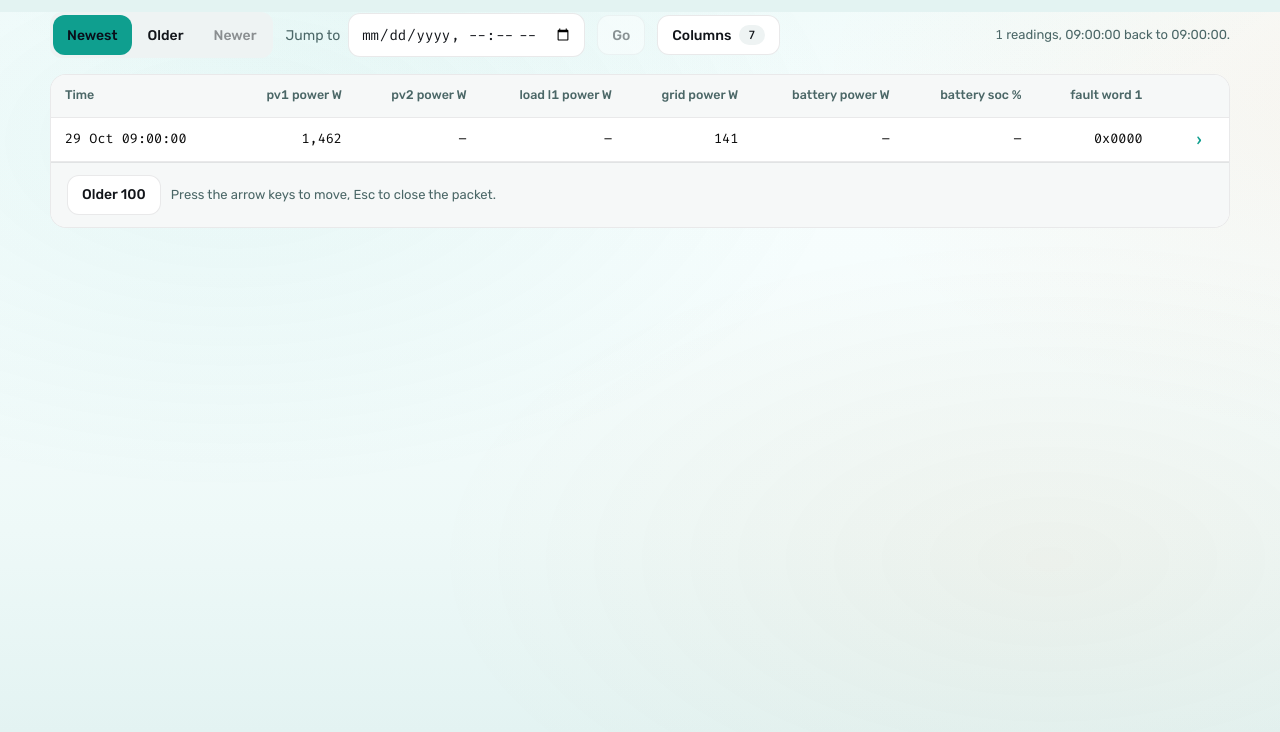
Test: ReadingsTab › R11/RR3 Older then Newer returns to the first page
Step 1. Click the button "Older" → (166, 35), box [134,15,198,55]
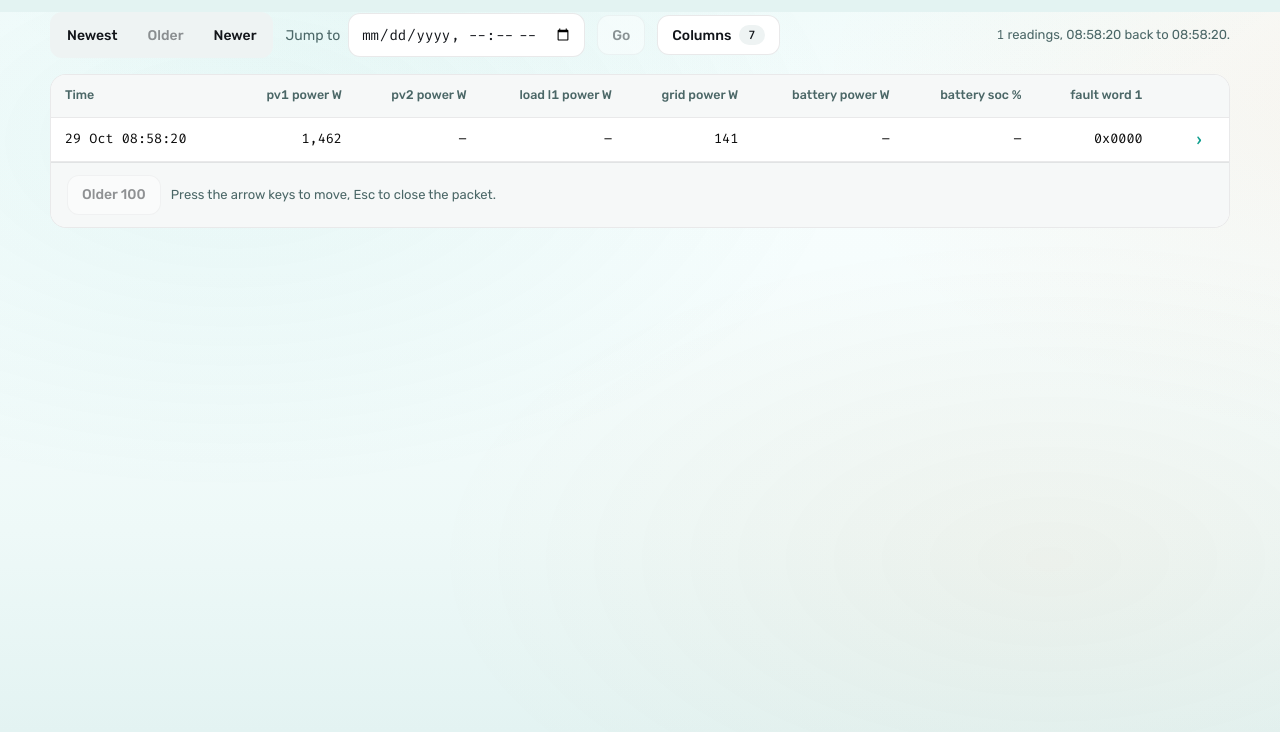
Result: the button "Newer" is enabled
Step 2. Click the button "Newer" → (235, 35), box [200,15,270,55]
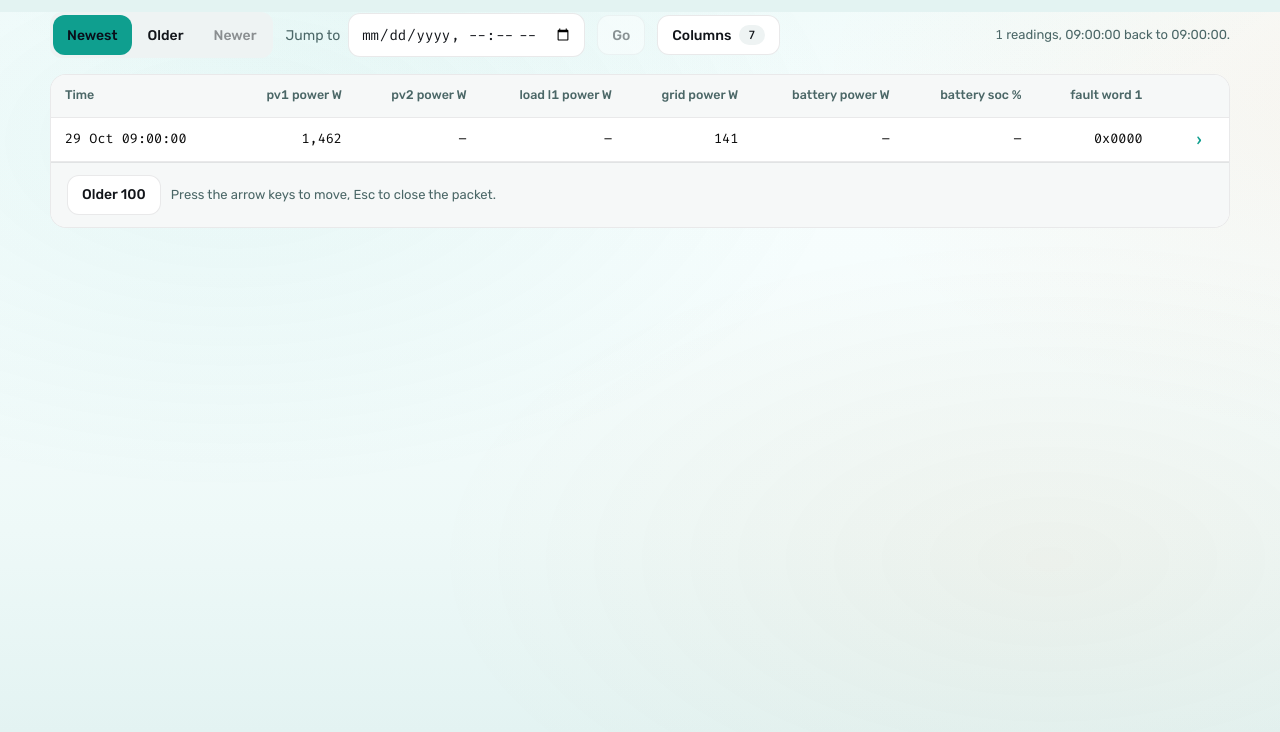
Result: the button "Older" is enabled at [134,15,198,55]
Result: the button "Newer" is disabled at [200,15,270,55]
